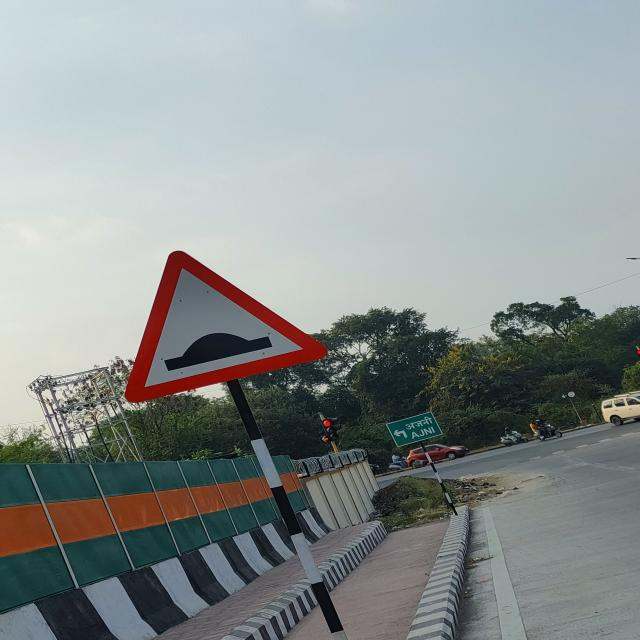horn_prohibited: (124, 251, 328, 403)
